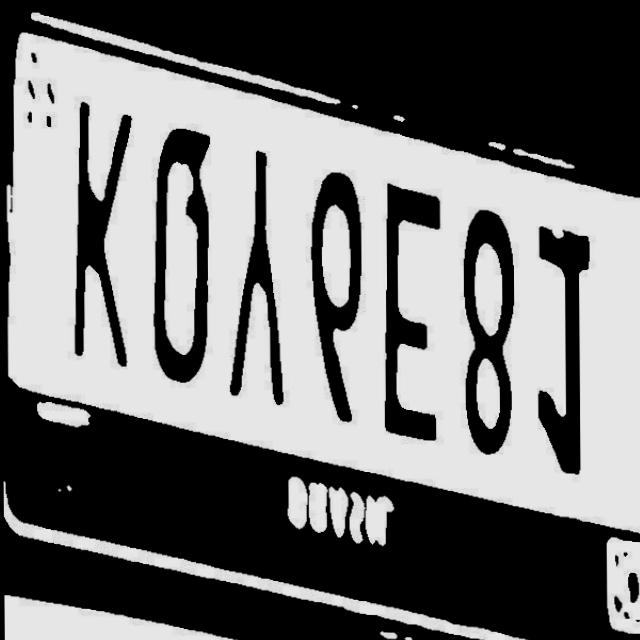1: (528, 194, 599, 488)
6: (300, 144, 363, 442)
8: (454, 175, 522, 476)
e: (378, 152, 444, 457)
k: (66, 98, 140, 397)
q: (148, 109, 220, 404)
y: (224, 125, 289, 424)
